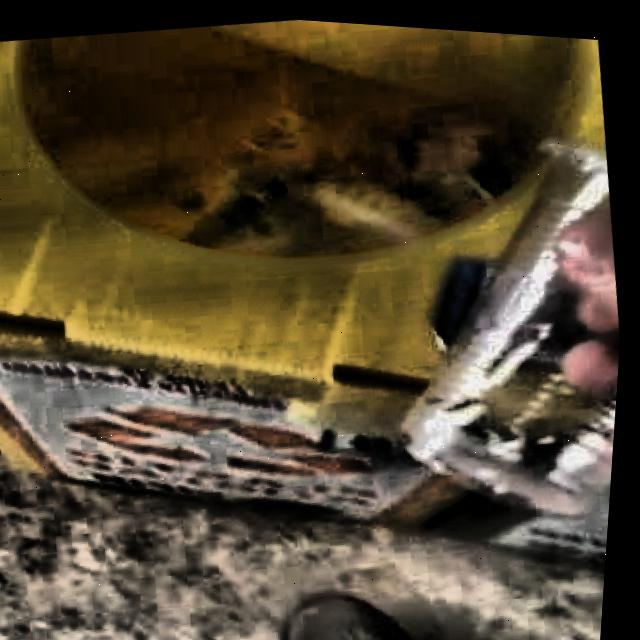plastic: (410, 133, 622, 507)
